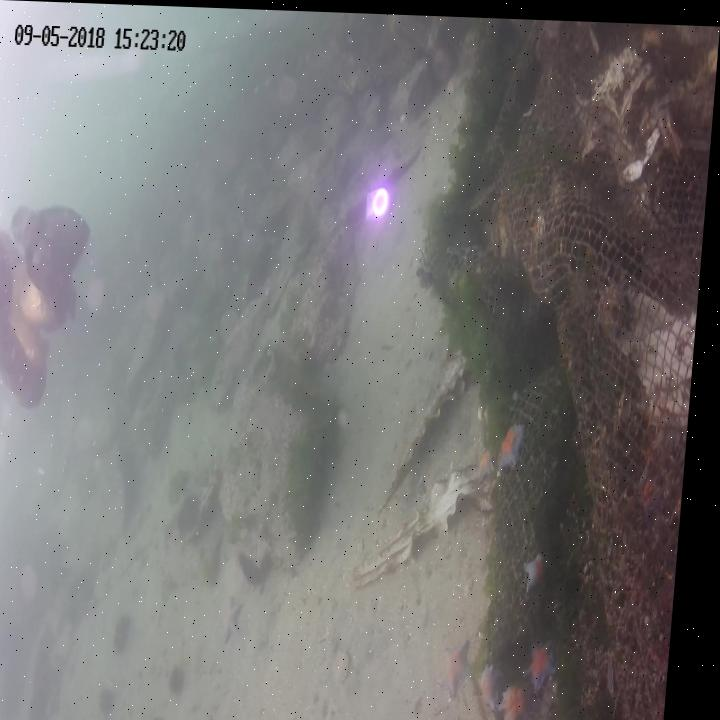scallop: (341, 647, 363, 683)
starfish: (449, 637, 487, 693), (534, 634, 570, 691), (504, 414, 535, 470), (530, 546, 562, 592), (507, 682, 544, 720), (487, 657, 515, 705), (228, 594, 253, 645), (484, 442, 503, 481), (447, 63, 464, 93)
